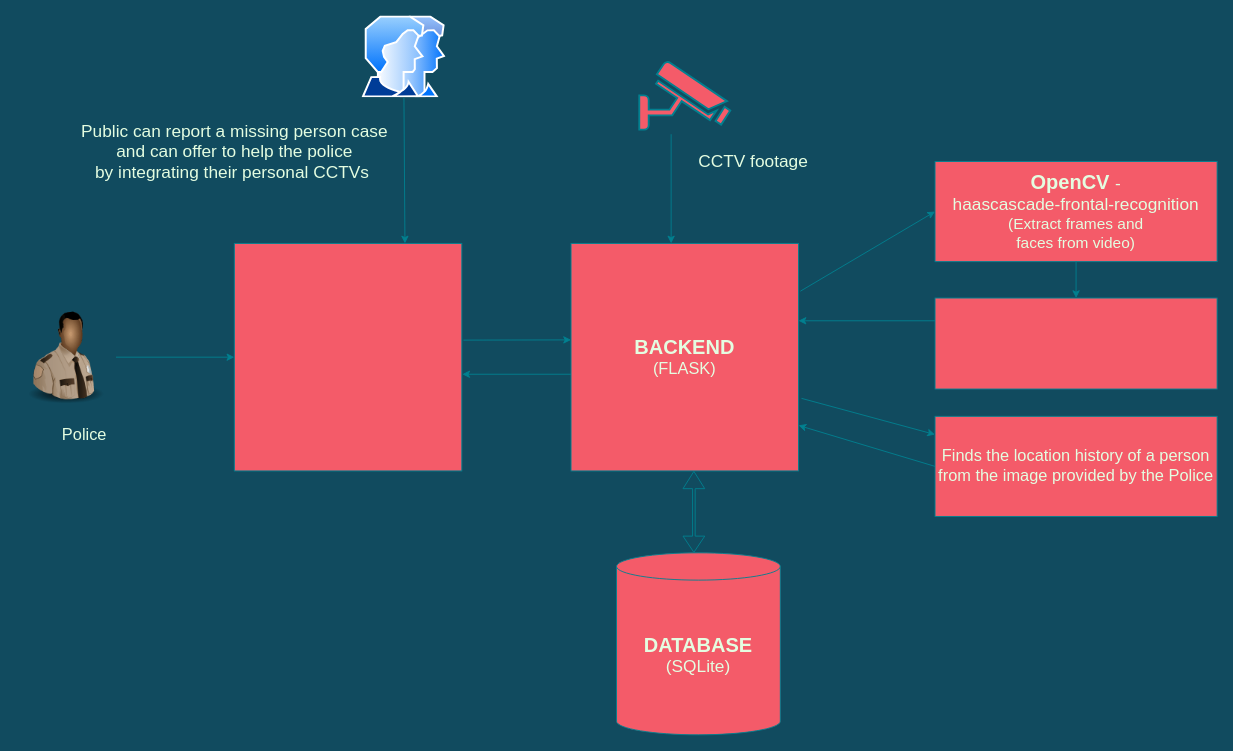
This 1233x751 diagram has some shape labels left out. Each missing label, with the box of its shape:
DeepFace - Verifies the similarity between two images: (934, 297, 1217, 389)
FRONTEND (HTML, CSS, JS): (233, 243, 462, 471)
